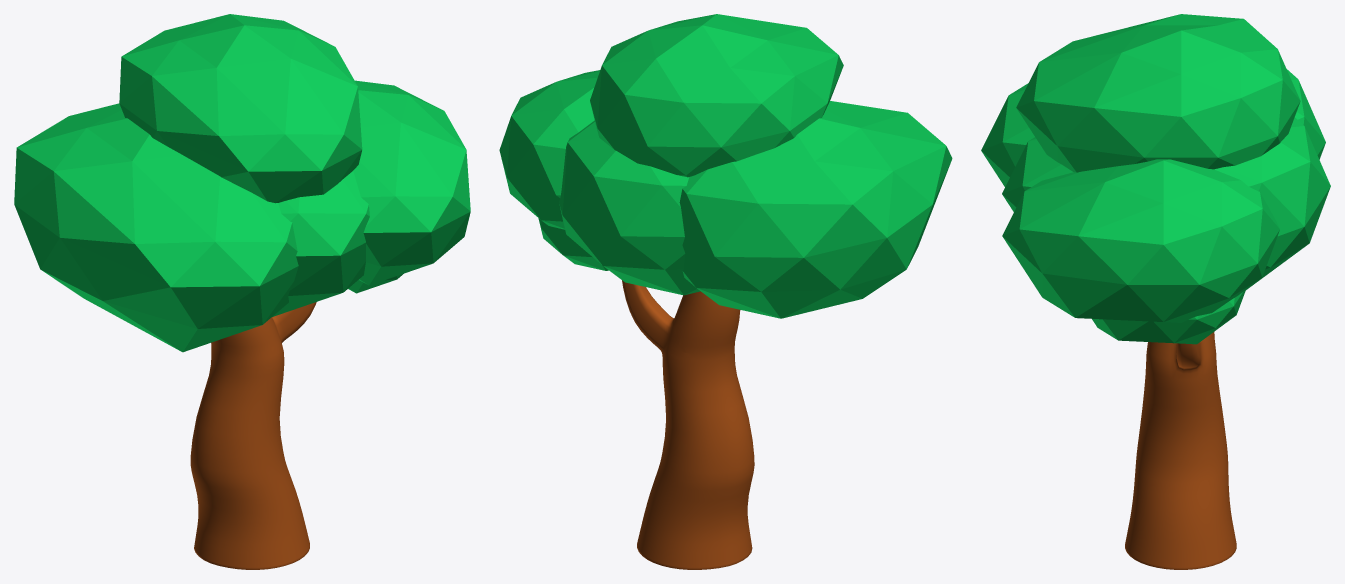
Rendered from tree3.fbx.
3 views of the same model, side by side, from view 1: azimuth 30°, elevation 25°; view 2: azimuth 150°, elevation 25°; view 3: azimuth 270°, elevation 25° (orthographic). The views are drawn at different scales.
Parts seen in each view (by area): view 1: Object009; view 2: Object009; view 3: Object009.
Part boxes in pixels (x1=…): Object009: x1=14, y1=14, x2=470, y2=569; Object009: x1=499, y1=14, x2=952, y2=569; Object009: x1=981, y1=14, x2=1330, y2=569.
Size of the model in its own units: 112 by 140 by 86.48.
